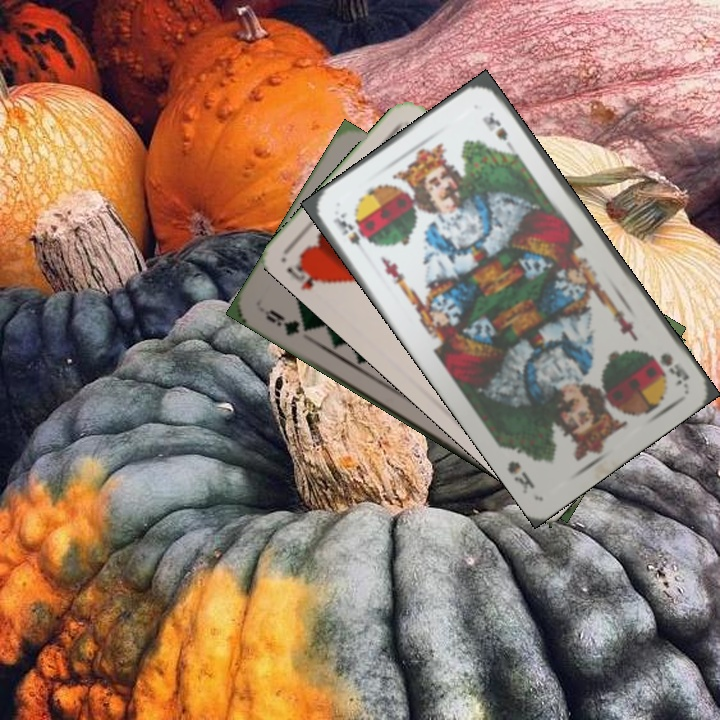G9: (260, 305, 314, 339)
HO: (282, 252, 333, 293)
SK: (329, 208, 371, 260), (655, 348, 692, 390)
